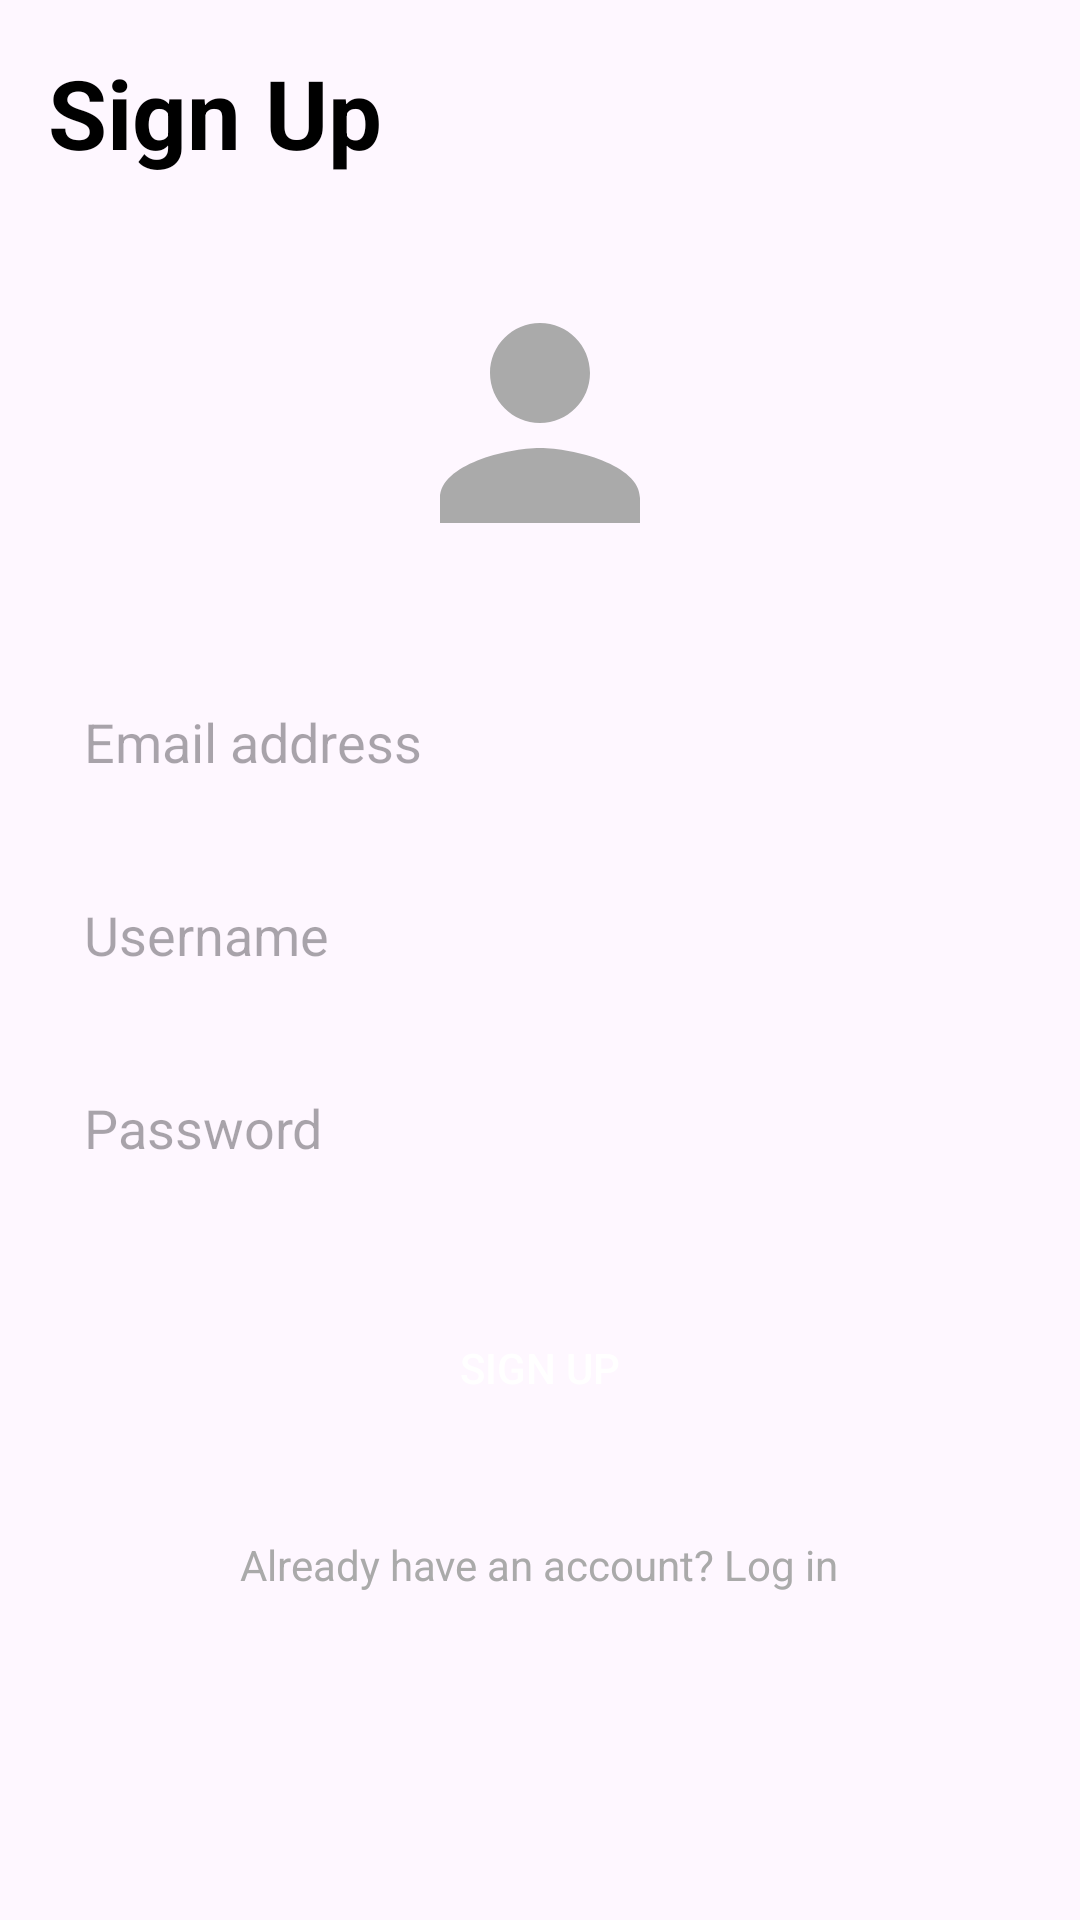

Where icons sit on this 1080px x 1920px app screen, as bbox=(x1, y1, x2, y2):
person: bbox=(440, 323, 640, 523)
